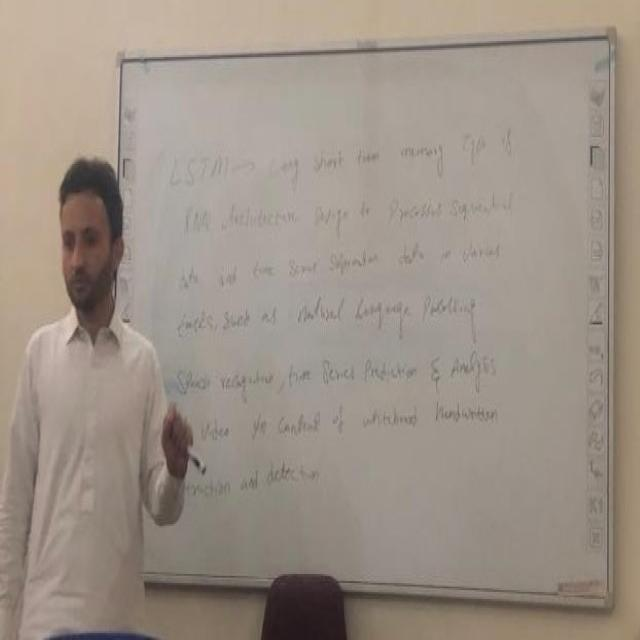Instructor: (23, 146, 138, 631)
White-board: (114, 35, 613, 599)
